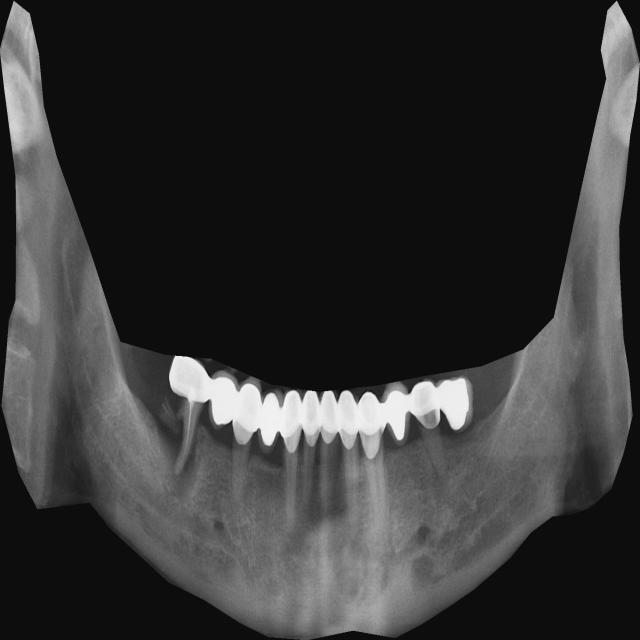mandibula: (0, 1, 640, 640)
